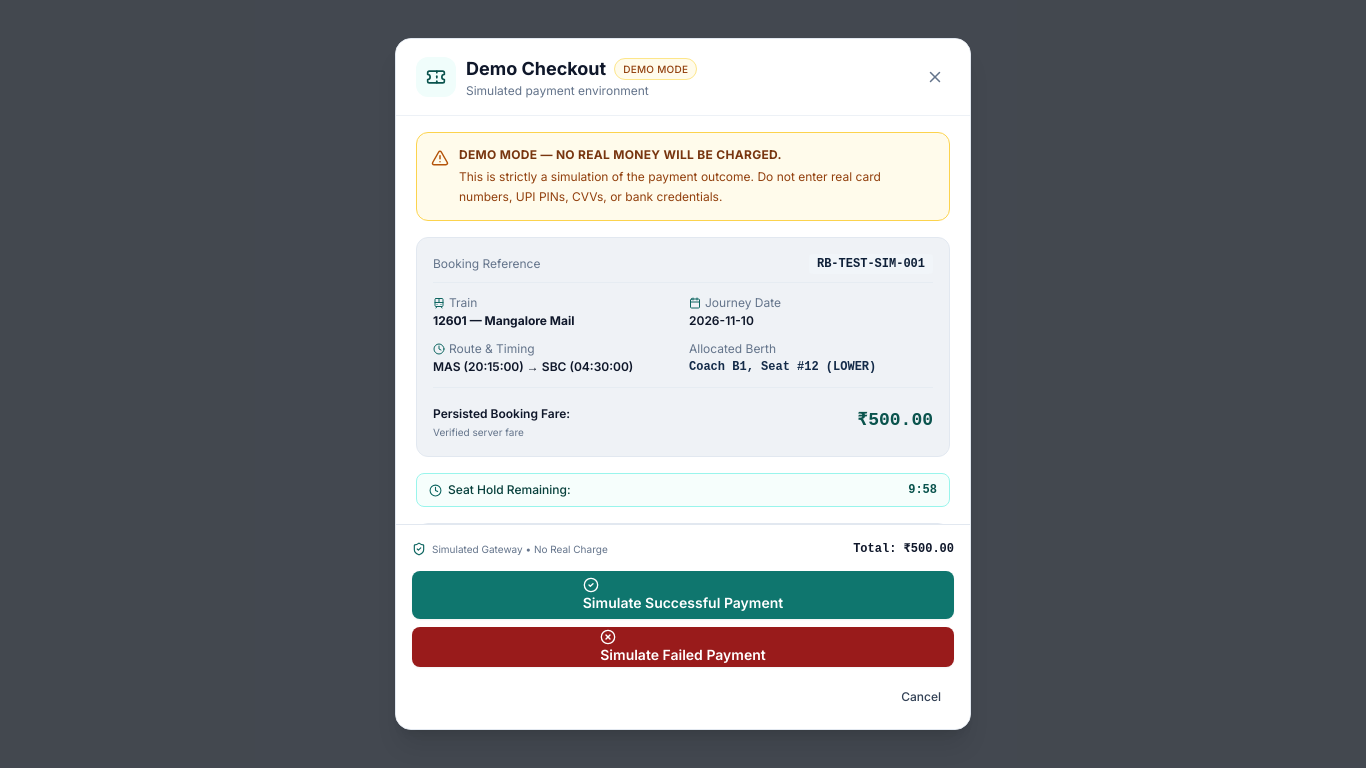
Test: SimulatedCheckoutModal › does not initiate payment when Cancel is clicked in the confirmation dialog
The width and height of the screenshot is (1366, 768).
Click the button "Simulate Successful Payment" at (683, 595), box [412, 571, 954, 619]
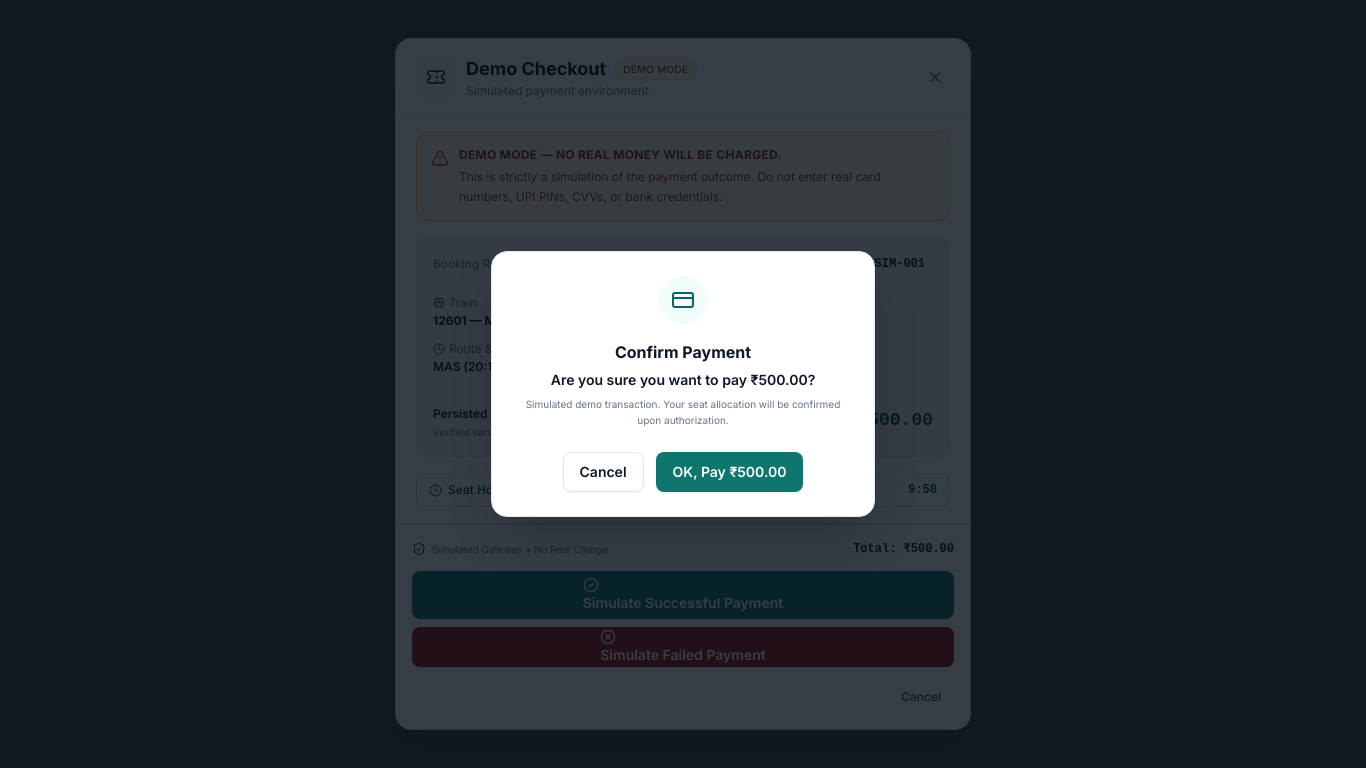
Expected: the text "Are you sure you want to pay ₹500.00?" is shown, [551, 371, 815, 388]
Click the button "Cancel" at (603, 472), box [562, 452, 644, 492]
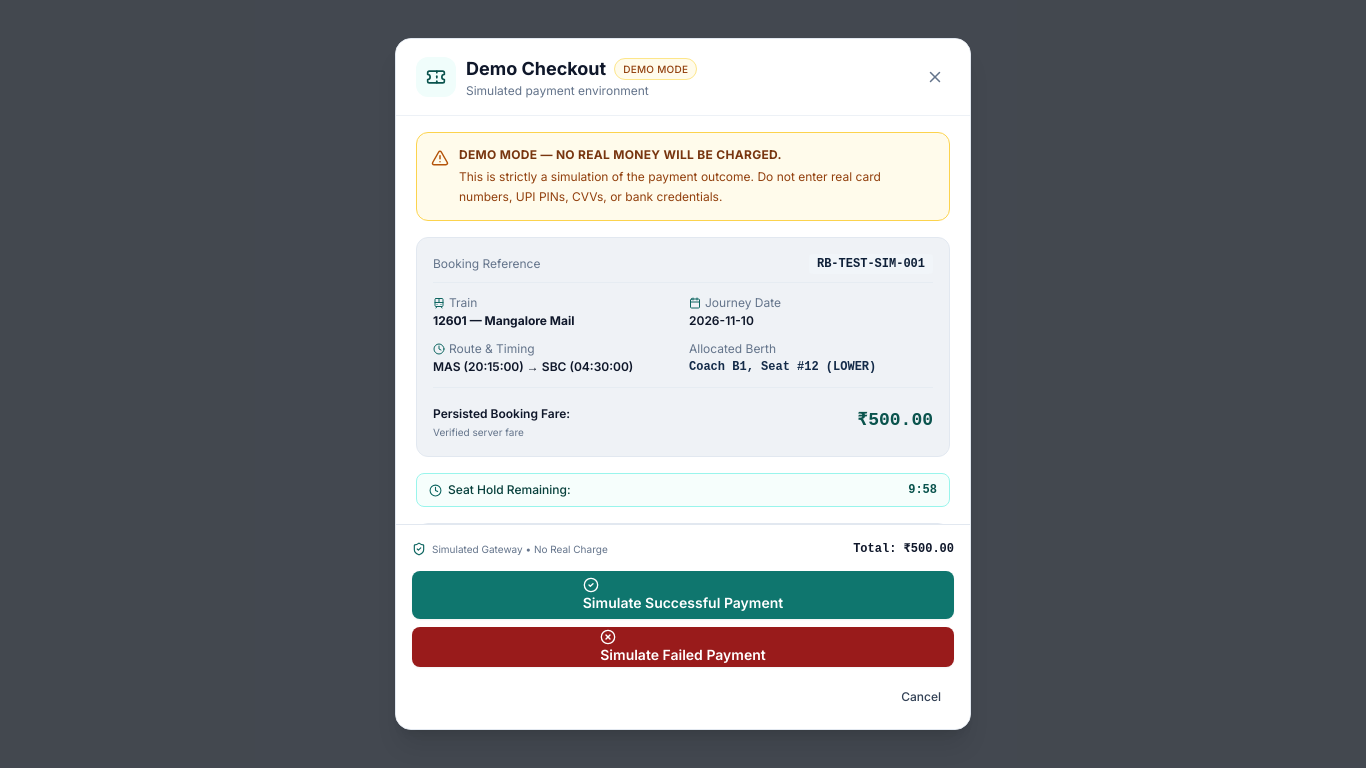
Expected: the text "Are you sure you want to pay" is gone
